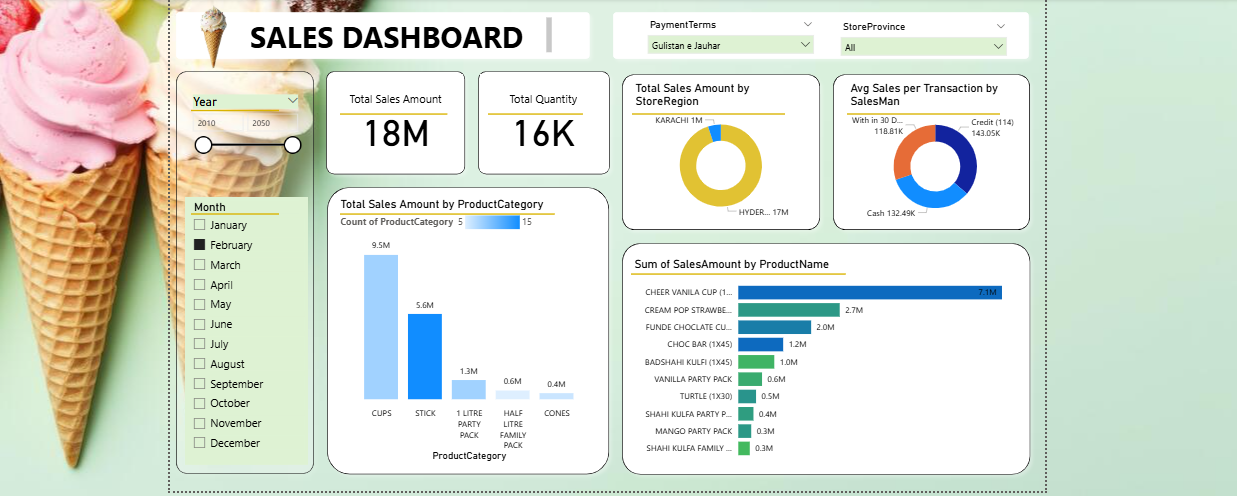

Layout of this report page (visuals, bound fields, positions):
{"tool":"powerbi","page":{"name":"Sales","canvas":[1280,720],"ordinal":0},"visuals":[{"type":"shape","box":[0,10.8,623.1,86.2],"z":0},{"type":"shape","box":[640,10.8,626.2,86.2],"z":1000},{"type":"shape","box":[311.7,402.4,219.5,174.1],"z":2000},{"type":"shape","box":[221.5,266.2,430.8,438.5],"z":3000},{"type":"shape","box":[0,96.6,219.5,607.3],"z":4000},{"type":"shape","box":[220,96.9,221.5,169.2],"z":5000},{"type":"shape","box":[441.5,96.9,210.8,169.2],"z":6000},{"type":"shape","box":[652.3,347.7,615.4,356.9],"z":7000},{"type":"barChart","fields":{"Category":["dim_product.ProductName"],"Y":["Sum(fact_sales.SalesAmount)"]},"box":[674.1,377.2,574.5,305.6],"z":8000},{"type":"cardVisual","fields":{"Data":["fact_sales.Total Sales Amount"]},"box":[232.3,110,195.6,141.4],"z":9000},{"type":"columnChart","fields":{"Category":["dim_product.ProductCategory"],"Y":["fact_sales.Total Sales Amount"]},"box":[244.6,289.2,378.5,392.3],"z":10000},{"type":"shape","box":[652.3,101.5,307.7,246.2],"z":11000},{"type":"shape","box":[961.5,101.5,306.2,246.2],"z":12000},{"type":"slicer","fields":{"Values":["dim_date.date.Variation.Date Hierarchy.Month"]},"box":[21.5,289.2,180,392.3],"z":13000},{"type":"slicer","fields":{"Values":["dim_date.date.Variation.Date Hierarchy.Year"]},"box":[20.5,134.6,180,153.7],"z":14000},{"type":"donutChart","fields":{"Category":["dim_store.StoreRegion"],"Y":["fact_sales.Total Sales Amount"]},"box":[675.4,120,260,209.2],"z":15000},{"type":"donutChart","fields":{"Y":["fact_sales.Avg Sales per Transaction"],"Category":["dim_dealer.SalesMan"]},"box":[990.8,120,258.5,212.3],"z":16000},{"type":"cardVisual","fields":{"Data":["fact_sales.Total Quantity"]},"box":[453.7,109.8,185.9,142],"z":17000},{"type":"textbox","box":[112.7,22,450.7,64.4],"z":18000},{"type":"shape","box":[30.7,288.3,128.8,52.7],"z":19000},{"type":"shape","box":[30.7,142,128.8,42.4],"z":20000},{"type":"shape","box":[248.6,288.6,314.3,52.9],"z":21000},{"type":"shape","box":[674.3,375.7,314.3,52.9],"z":22000},{"type":"shape","box":[248.6,141.4,157.1,52.9],"z":23000},{"type":"shape","box":[465.7,141.4,138.6,52.9],"z":24000},{"type":"shape","box":[676.1,142,223.9,52.7],"z":25000},{"type":"shape","box":[990.7,142,223.9,52.7],"z":26000},{"type":"slicer","fields":{"Values":["Ikp_payment.PaymentTerms"]},"box":[689.3,24.9,263.4,55.6],"z":27000},{"type":"slicer","fields":{"Values":["dim_store.StoreProvince"]},"box":[971.7,27.8,263.4,55.6],"z":28000},{"type":"image","box":[0,0,127.3,109.8],"z":29000}]}

Visuals, with their boxes on the page's 1280x720 design canvas (x1, y1, x2, y2). These are canvas units, not pixel positions in the 1237x496 screenshot, which may show the page scaled, cropped or inside an application window:
shape: 0,11,623,97
shape: 640,11,1266,97
shape: 312,402,531,576
shape: 222,266,652,705
shape: 0,97,220,704
shape: 220,97,442,266
shape: 442,97,652,266
shape: 652,348,1268,705
barChart - dim_product.ProductName x Sum(fact_sales.SalesAmount): 674,377,1249,683
cardVisual - fact_sales.Total Sales Amount: 232,110,428,251
columnChart - dim_product.ProductCategory x fact_sales.Total Sales Amount: 245,289,623,682
shape: 652,102,960,348
shape: 962,102,1268,348
slicer - dim_date.date.Variation.Date Hierarchy.Month: 22,289,202,682
slicer - dim_date.date.Variation.Date Hierarchy.Year: 20,135,200,288
donutChart - dim_store.StoreRegion x fact_sales.Total Sales Amount: 675,120,935,329
donutChart - fact_sales.Avg Sales per Transaction x dim_dealer.SalesMan: 991,120,1249,332
cardVisual - fact_sales.Total Quantity: 454,110,640,252
textbox: 113,22,563,86
shape: 31,288,160,341
shape: 31,142,160,184
shape: 249,289,563,342
shape: 674,376,989,429
shape: 249,141,406,194
shape: 466,141,604,194
shape: 676,142,900,195
shape: 991,142,1215,195
slicer - Ikp_payment.PaymentTerms: 689,25,953,80
slicer - dim_store.StoreProvince: 972,28,1235,83
image: 0,0,127,110
